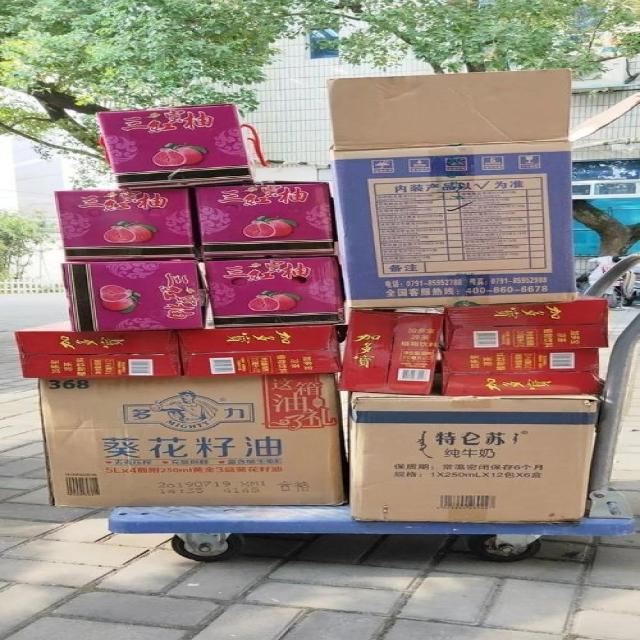box: (334, 141, 579, 309), (38, 373, 344, 507), (348, 391, 600, 524), (325, 68, 571, 151), (96, 104, 270, 190), (195, 181, 335, 259), (197, 256, 346, 329), (55, 188, 197, 262), (60, 260, 205, 332), (337, 306, 444, 396), (15, 320, 180, 378), (444, 292, 608, 349), (174, 325, 342, 376), (431, 348, 600, 396)
